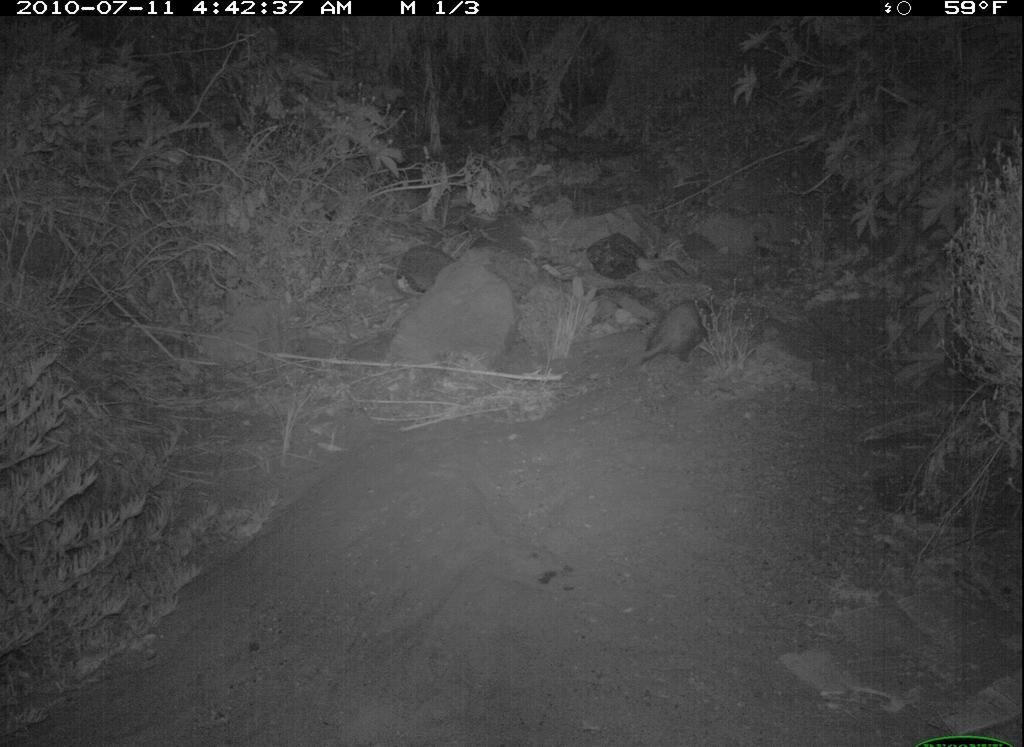opossum: (628, 280, 730, 379)
